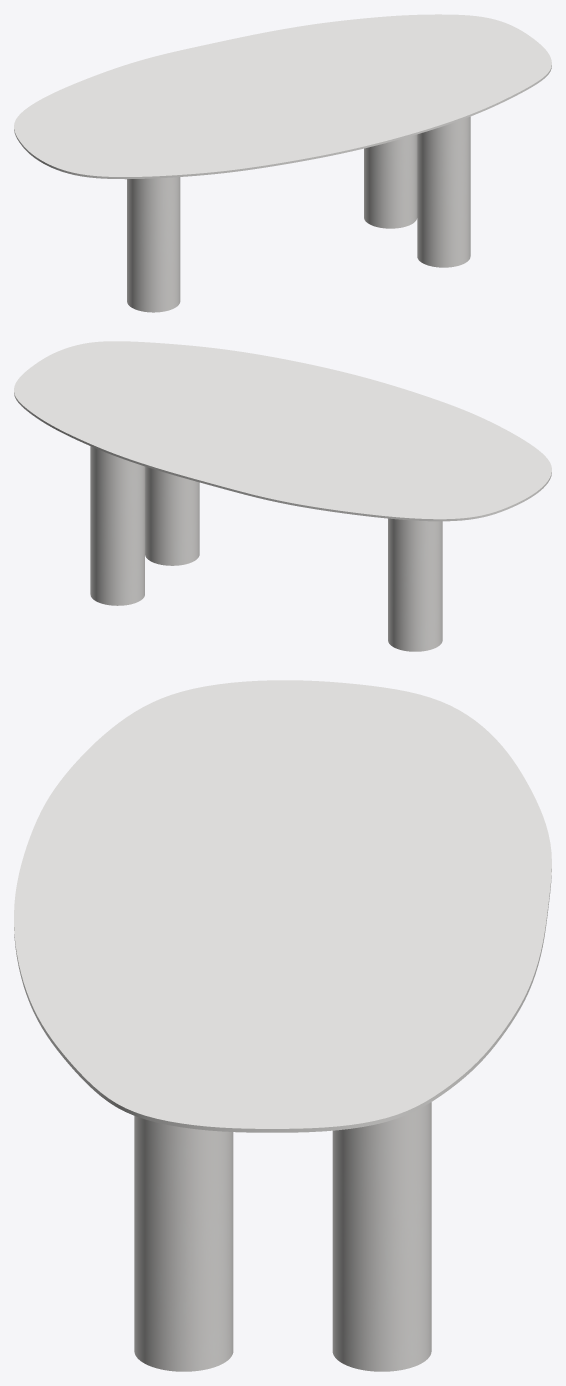
File: purewhite_danish_facet_cylinder.glb
3 renders of one model, top to bottom at view 1: azimuth 30°, elevation 25°; view 2: azimuth 150°, elevation 25°; view 3: azimuth 270°, elevation 25°, orthographic. The views are drawn at different scales.
Visible parts, largest first — view 1: facet_danish, cylinder; view 2: facet_danish, cylinder; view 3: facet_danish, cylinder.
Part boxes in pixels (bbox=[...]): facet_danish: bbox=[14, 14, 551, 179]; cylinder: bbox=[127, 116, 470, 312]; facet_danish: bbox=[14, 341, 551, 521]; cylinder: bbox=[90, 446, 442, 651]; facet_danish: bbox=[14, 680, 551, 1132]; cylinder: bbox=[134, 1102, 431, 1371].
Size of the model in its own units: 7.5 by 2.52 by 3.8.
Materials: 1 (1 with a texture image).
